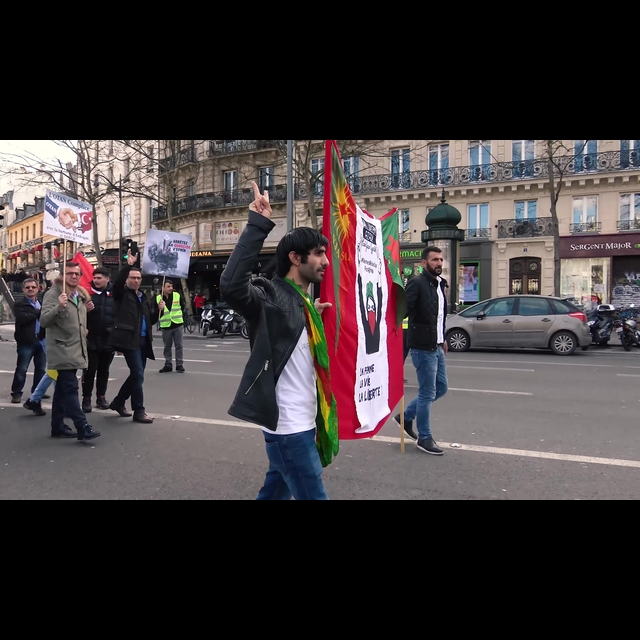ZI: (242, 177, 279, 232)
